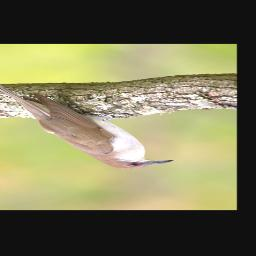Cuckoo: (0, 65, 176, 170)
